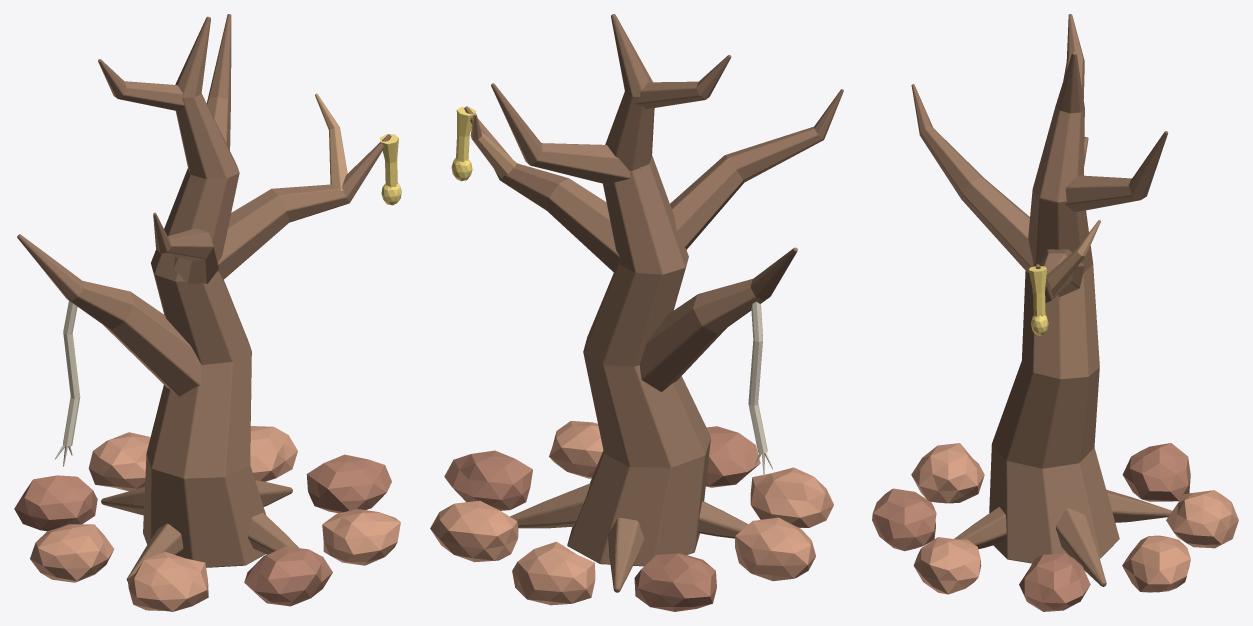
File: Kit_LM_DeadTree.fbx
3 views of the same model, side by side, from view 1: azimuth 30°, elevation 25°; view 2: azimuth 150°, elevation 25°; view 3: azimuth 270°, elevation 25° (orthographic). The views are drawn at different scales.
Visible parts, largest first — view 1: Kit_LM_DeadTree; view 2: Kit_LM_DeadTree; view 3: Kit_LM_DeadTree.
Part boxes in pixels (<box>): Kit_LM_DeadTree: <box>14,14,401,611</box>; Kit_LM_DeadTree: <box>430,14,843,611</box>; Kit_LM_DeadTree: <box>872,14,1238,611</box>.
Bounding box in the file's own units: 2.92 × 4 × 2.7.
